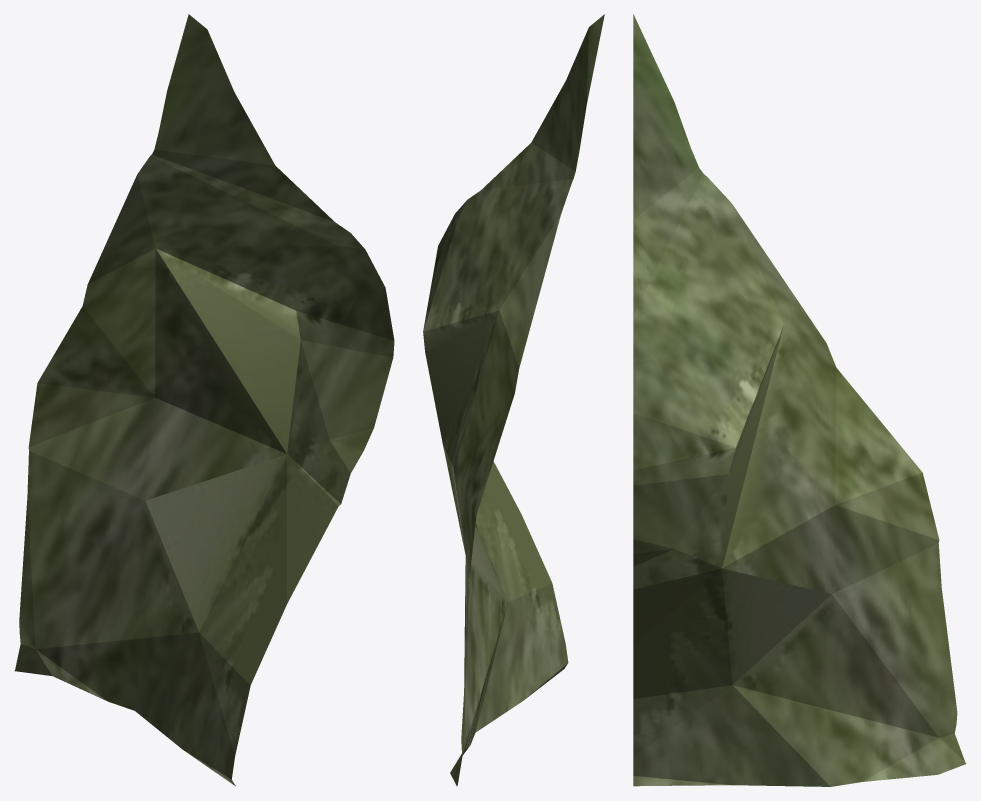
3 renders of one model, left to right at view 1: azimuth 30°, elevation 25°; view 2: azimuth 150°, elevation 25°; view 3: azimuth 270°, elevation 25°, orthographic. The views are drawn at different scales.
Size of the model in its own units: 0.6806 by 2.48 by 0.998.
Materials: 1 (1 with a texture image).
